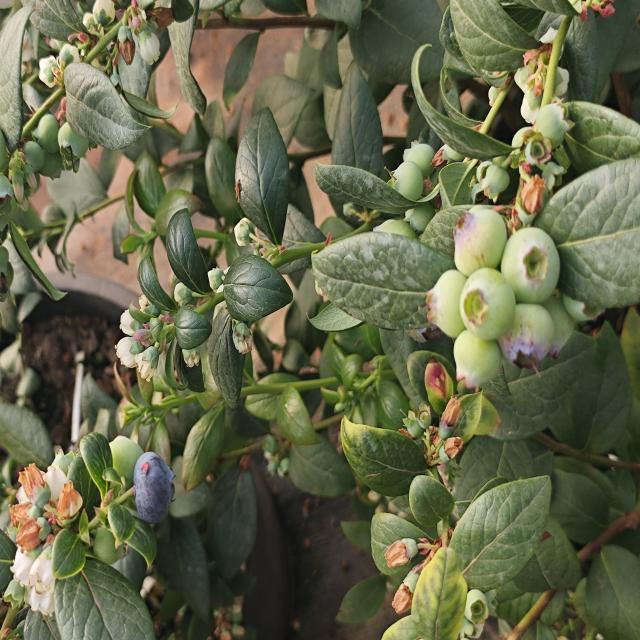ripe: (118, 452, 180, 532)
